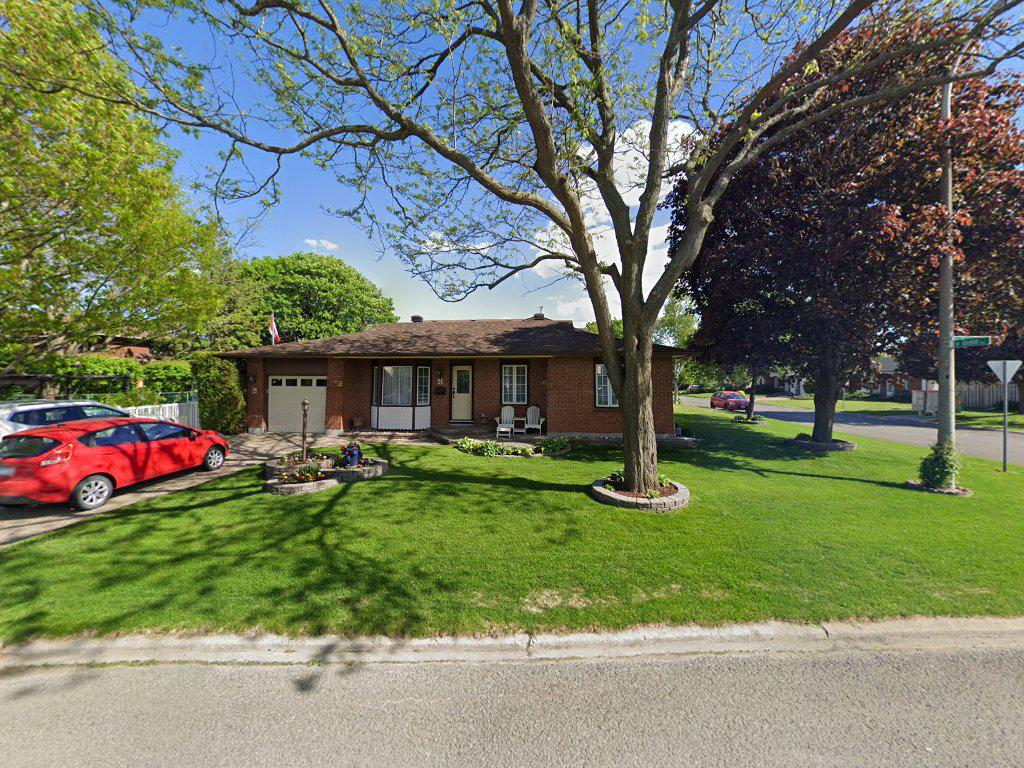trunk: (590, 276, 687, 518), (810, 357, 842, 461)
